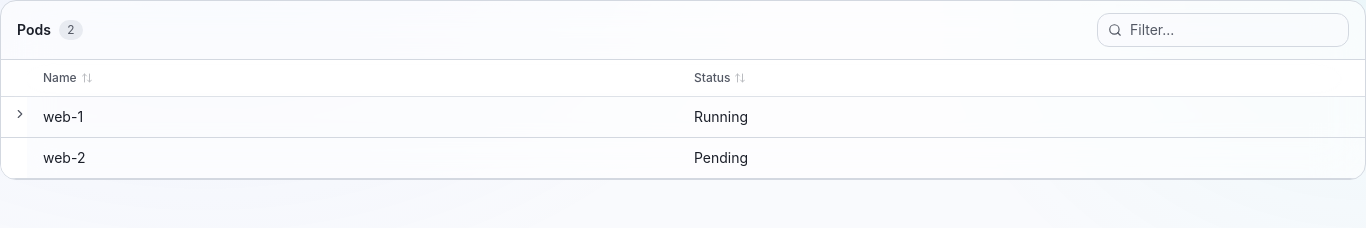
it: DataTable › expands a row when it is expandable
Expected: the text "Extra detail" is not shown
// The chevron cell is the first cell of the expandable row.
Click the row "web-1 Running".
click(683, 117)  # box [1, 96, 1365, 138]
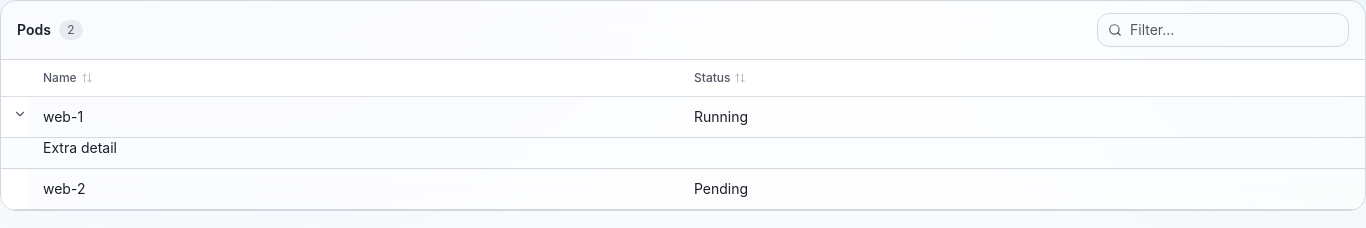
Expected: the text "Extra detail" is shown, [43, 139, 117, 156]
